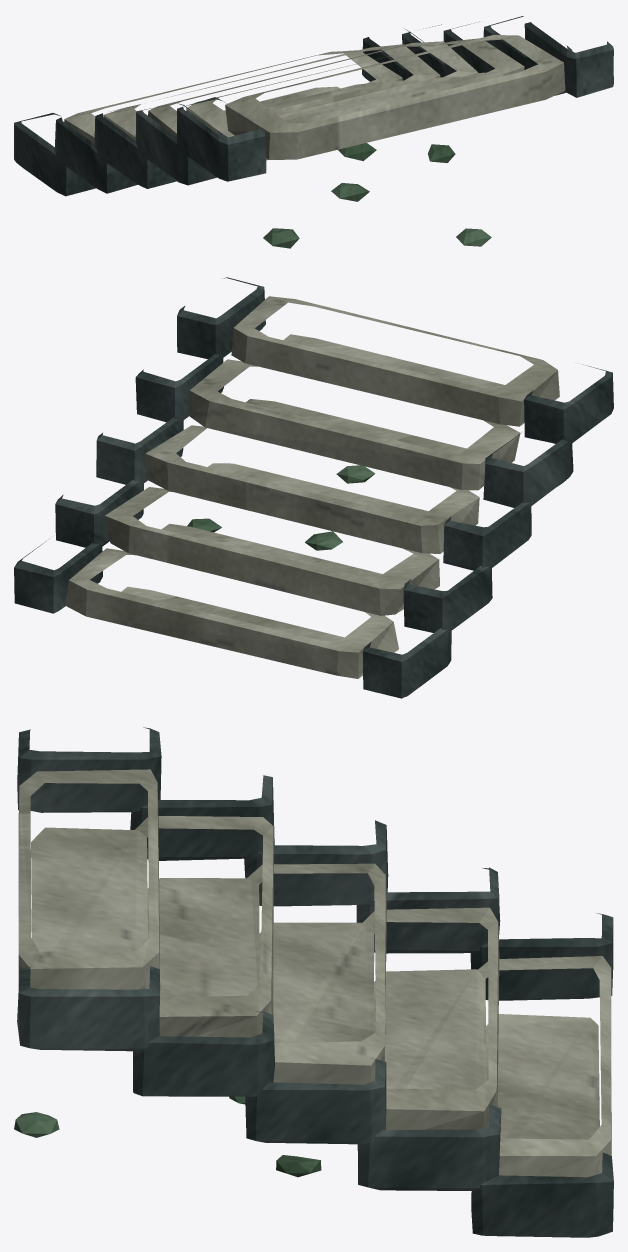
File: 0373_stairs_23.glb
3 renders of one model, top to bottom at view 1: azimuth 30°, elevation 25°; view 2: azimuth 150°, elevation 25°; view 3: azimuth 270°, elevation 25°, orthographic. The views are drawn at different scales.
Parts seen in each view (by area): view 1: stone_light, stone_dark, moss; view 2: stone_light, stone_dark, moss; view 3: stone_light, stone_dark, moss.
Boxes of the visible parts, box(x1,y1,x2,y2) form: stone_light: box(64, 35, 565, 160); stone_dark: box(14, 16, 613, 196); moss: box(263, 143, 491, 248); stone_light: box(65, 296, 559, 678); stone_dark: box(14, 277, 613, 698); moss: box(187, 465, 375, 550); stone_light: box(18, 769, 611, 1177); stone_dark: box(17, 727, 613, 1237); moss: box(14, 1096, 321, 1177).
Size of the model in its own units: 2.47 by 1.07 by 2.33.
3 materials, 3 textured.
